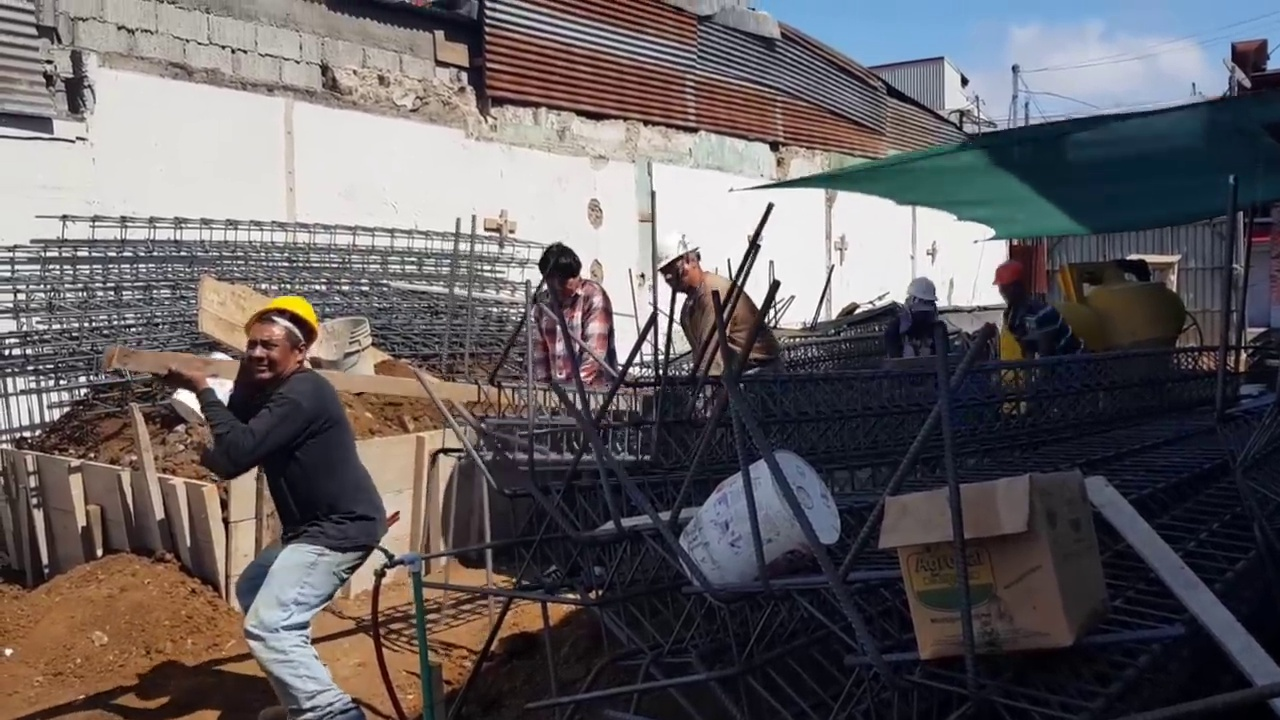helmet: (249, 292, 319, 341), (908, 279, 943, 308), (662, 240, 700, 265), (993, 262, 1025, 286)
helmet-off: (534, 246, 580, 304)
helmet-on: (240, 290, 326, 386), (653, 235, 709, 293), (993, 261, 1034, 307), (901, 281, 943, 323)
person: (153, 308, 393, 720), (655, 241, 775, 397), (522, 238, 613, 403), (995, 260, 1089, 360), (878, 279, 949, 366)
